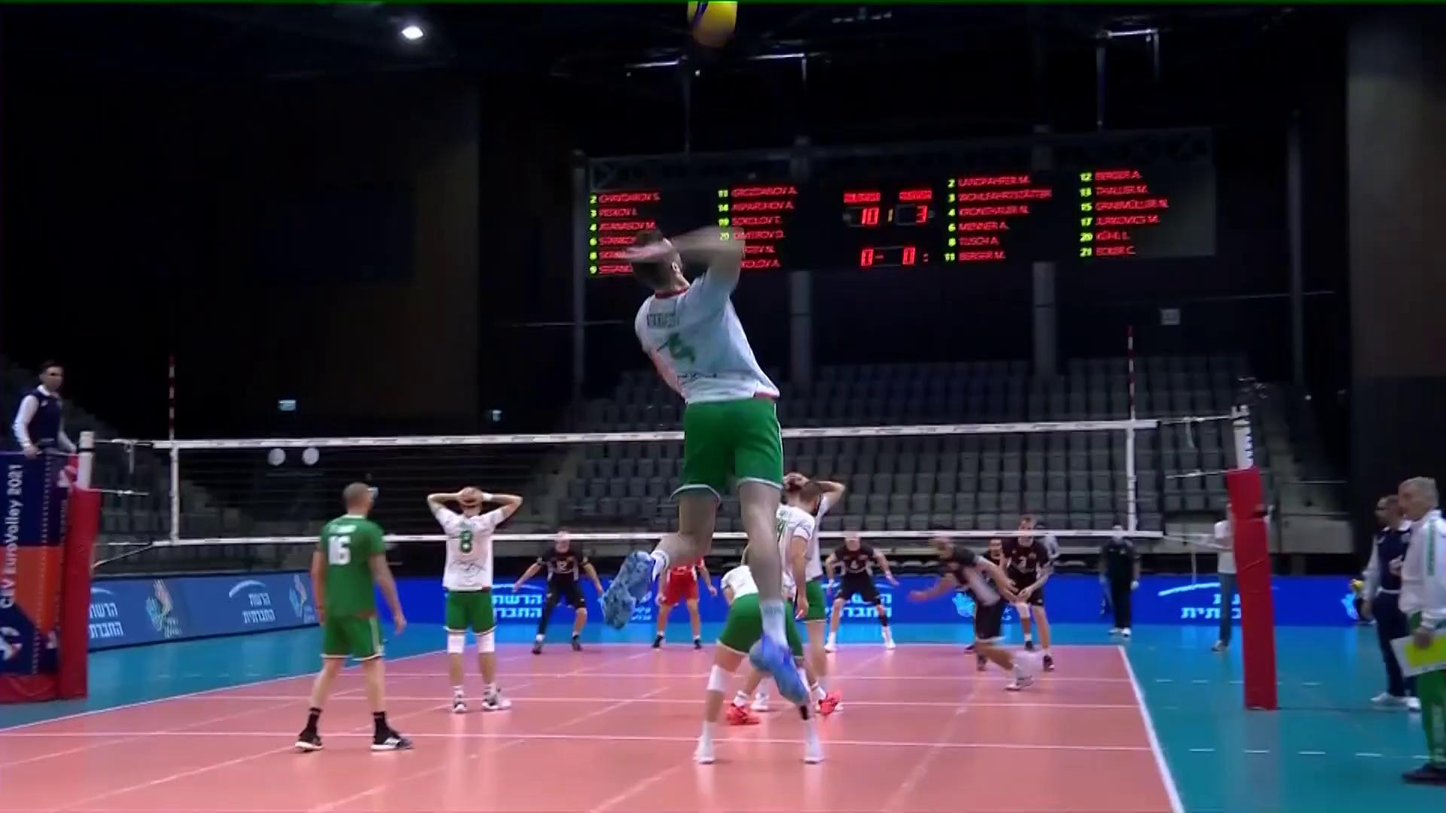ball: (685, 0, 740, 44)
